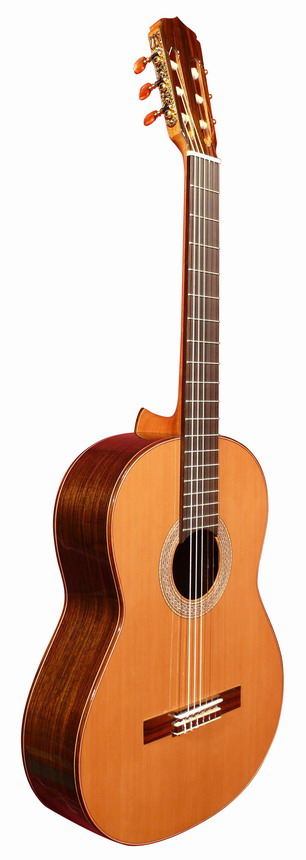guitar: (17, 8, 285, 848)
